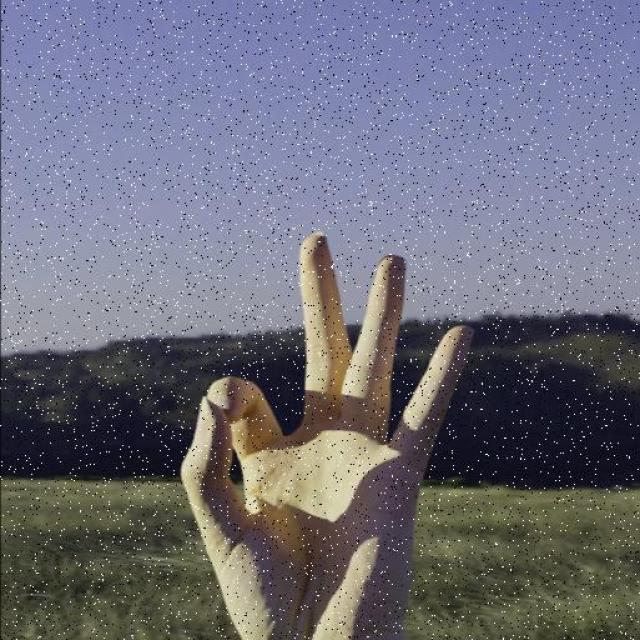F: (176, 225, 479, 640)
